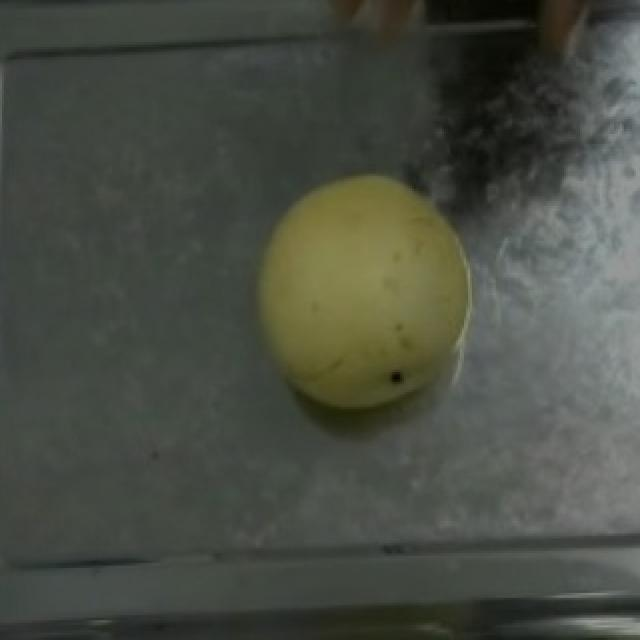Fruit: (234, 158, 486, 422)
